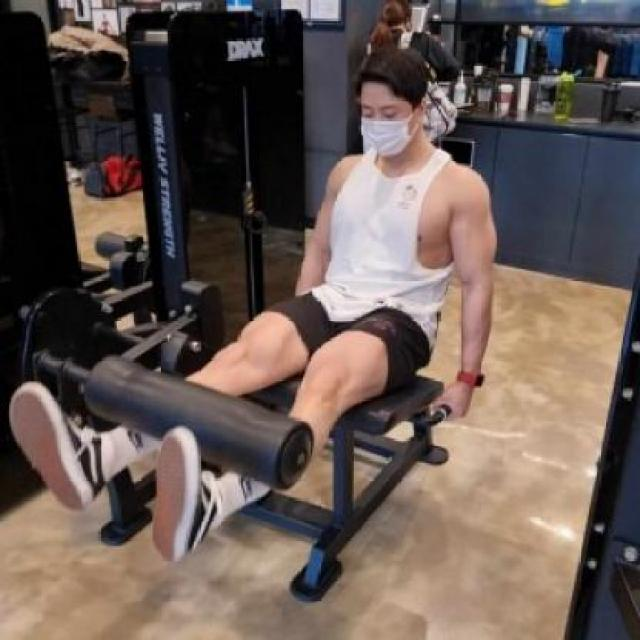leg extension: (0, 0, 514, 612)
